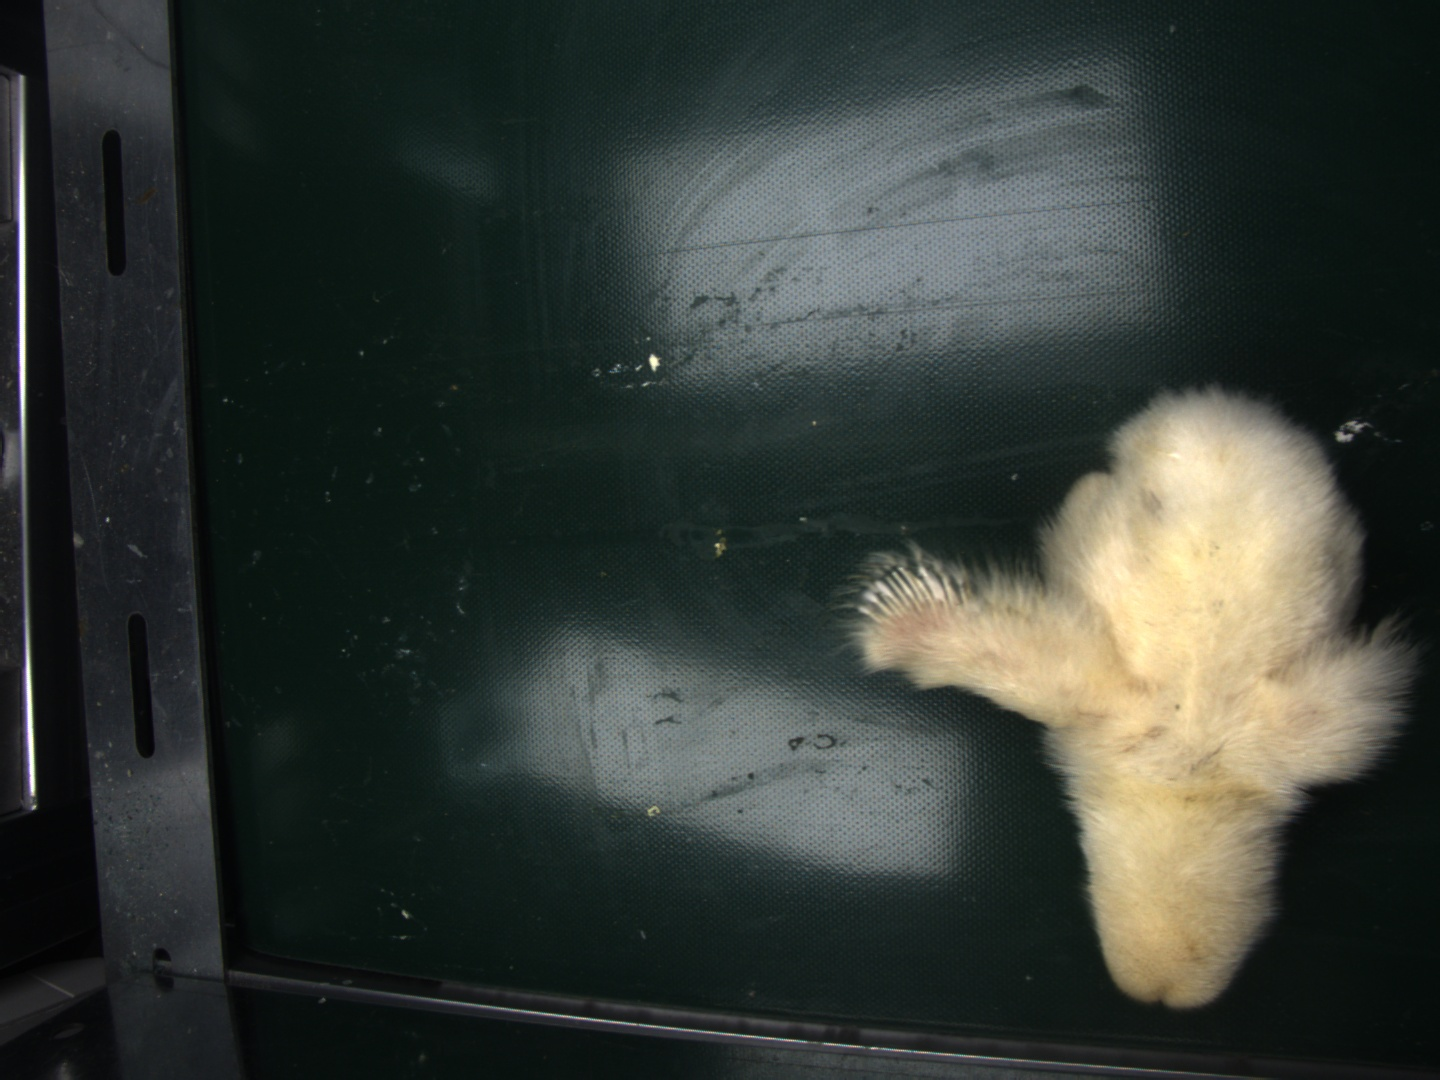male: (861, 565, 956, 625)
